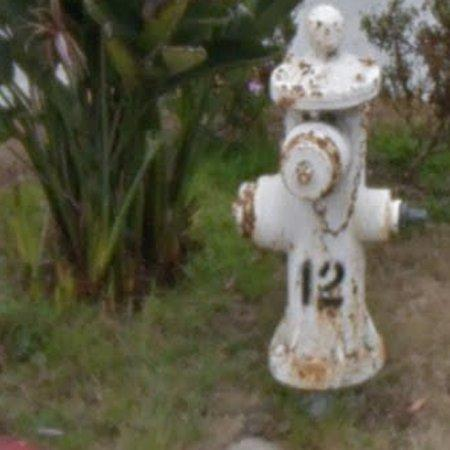a fire hydrant: (237, 5, 401, 391)
